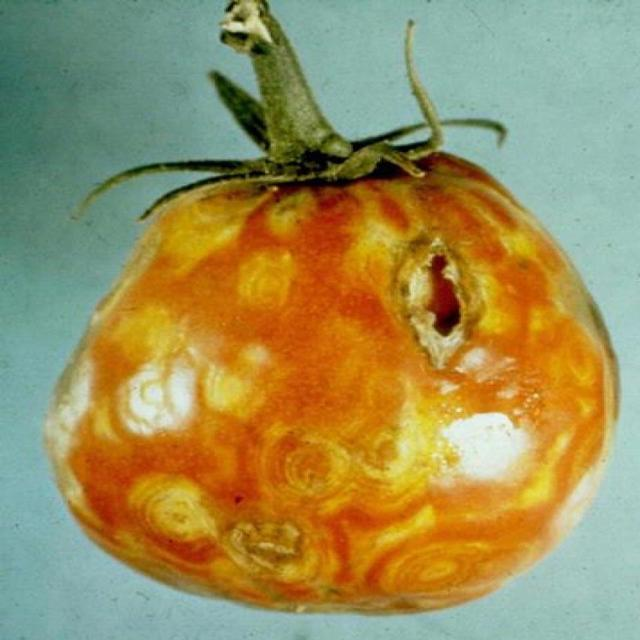Spotted wilt Virus Fruit: (125, 59, 339, 174)
